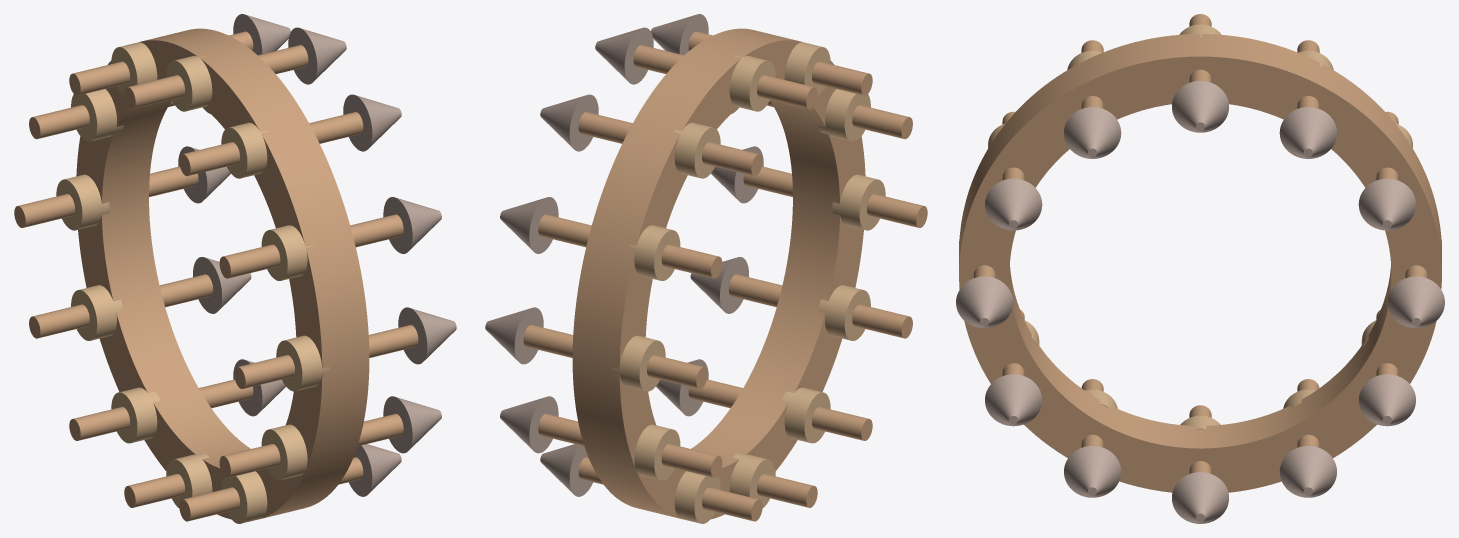
Rendered from combustor-manifold.glb.
3 views of the same model, side by side, from view 1: azimuth 30°, elevation 25°; view 2: azimuth 150°, elevation 25°; view 3: azimuth 270°, elevation 25° (orthographic).
Visible parts, largest first — view 1: combustor-manifold - fuel, combustor-manifold - bronze, combustor-manifold - heat; view 2: combustor-manifold - fuel, combustor-manifold - bronze, combustor-manifold - heat; view 3: combustor-manifold - fuel, combustor-manifold - heat, combustor-manifold - bronze.
Part boxes in pixels (x1,y1,x2,y2): combustor-manifold - fuel: [14, 28, 418, 521]; combustor-manifold - bronze: [56, 42, 329, 523]; combustor-manifold - heat: [178, 14, 456, 496]; combustor-manifold - fuel: [523, 28, 927, 521]; combustor-manifold - bronze: [612, 42, 885, 523]; combustor-manifold - heat: [485, 14, 763, 496]; combustor-manifold - fuel: [959, 14, 1441, 492]; combustor-manifold - heat: [956, 81, 1444, 523]; combustor-manifold - bronze: [959, 24, 1441, 429].
Bounding box in the file's own units: 0.568 × 1.14 × 1.14.
